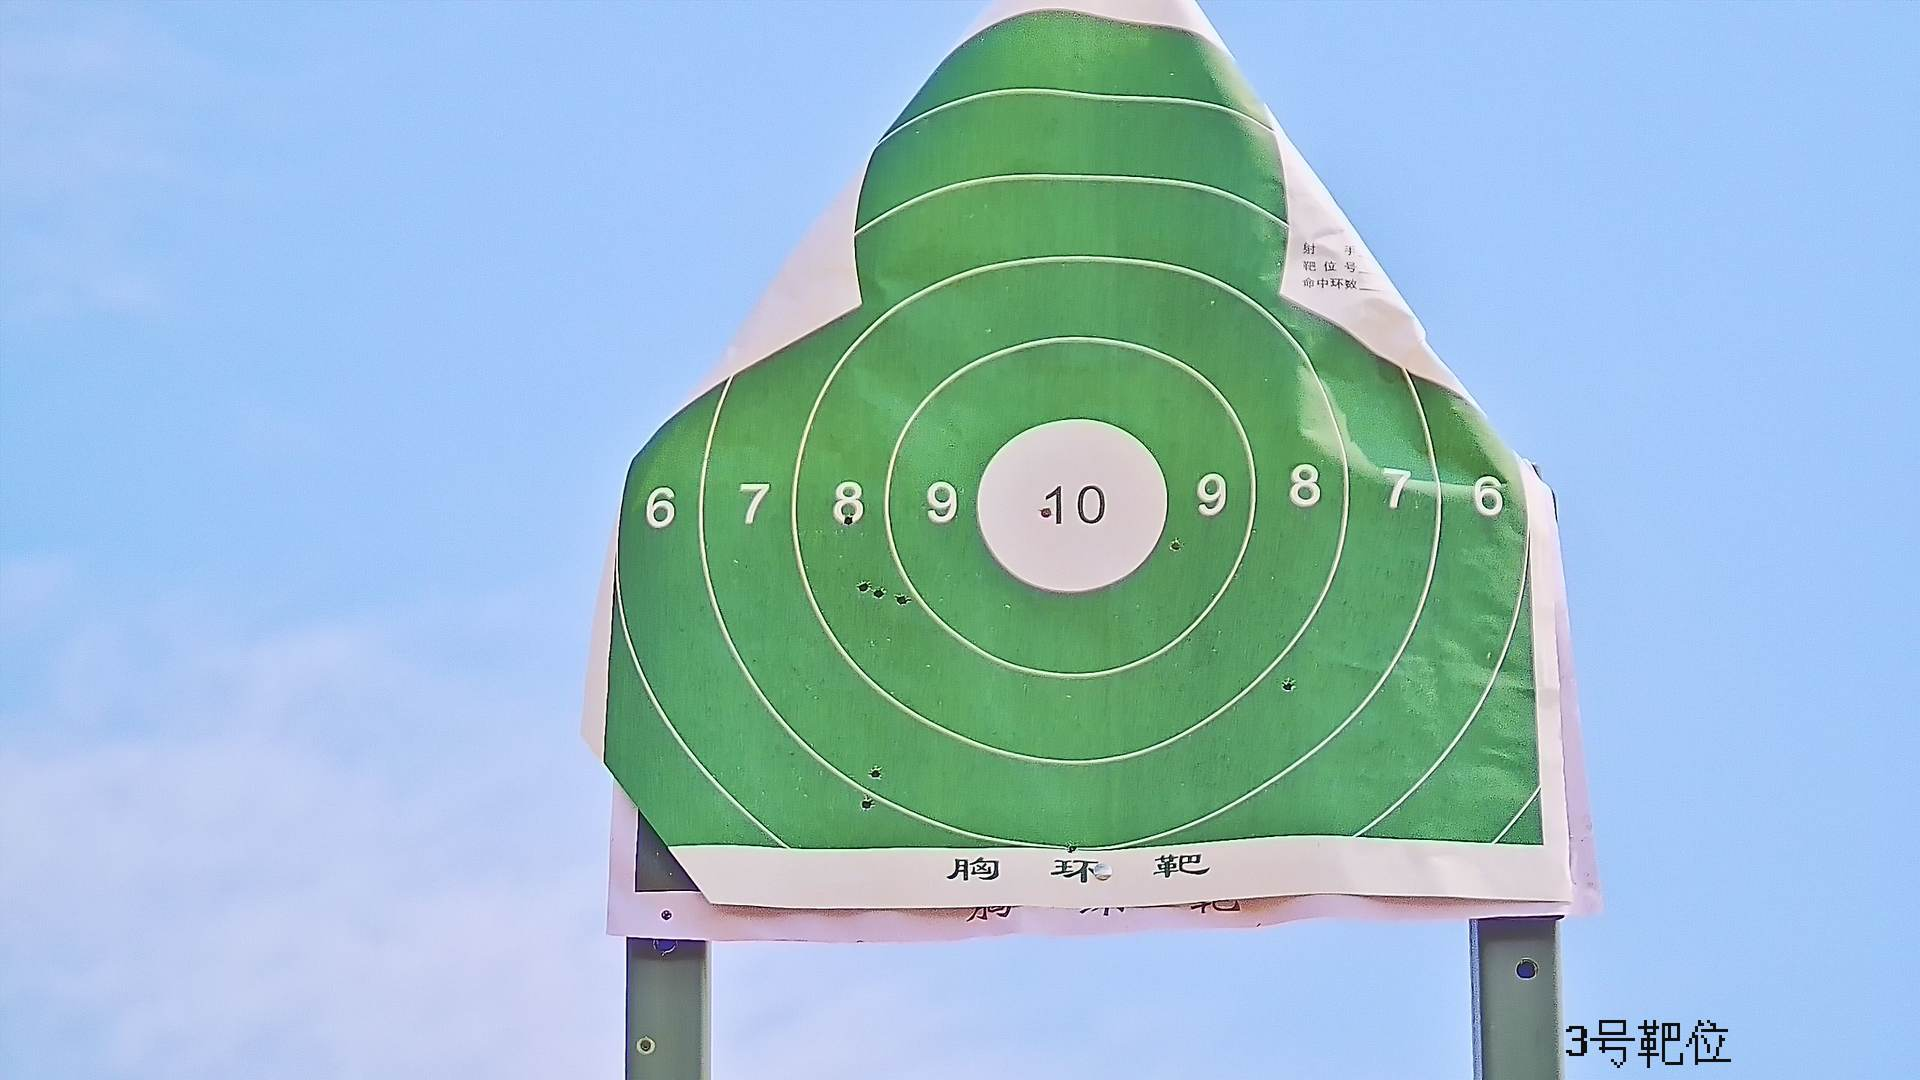hole: (1170, 538, 1182, 553), (856, 579, 868, 592), (870, 767, 882, 781), (874, 585, 886, 597), (1282, 679, 1294, 691), (1065, 843, 1077, 855), (861, 798, 874, 808), (1040, 506, 1052, 517), (844, 514, 852, 527), (895, 593, 906, 603)
kernel: (1069, 505, 1077, 509)
target: (600, 13, 1544, 865)
ten: (973, 415, 1172, 603)
